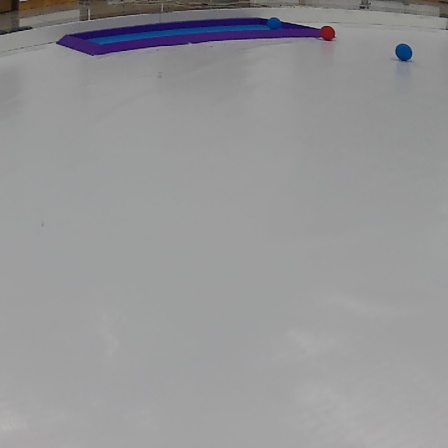blue: (264, 14, 285, 33), (393, 40, 412, 61)
blue_aim: (55, 17, 327, 56)
red: (320, 23, 336, 40)
